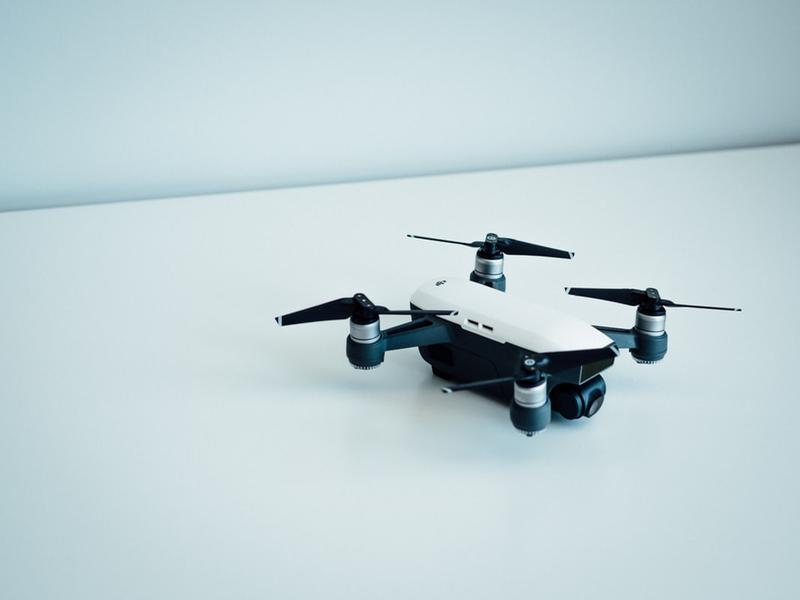enemy: (348, 232, 671, 437)
